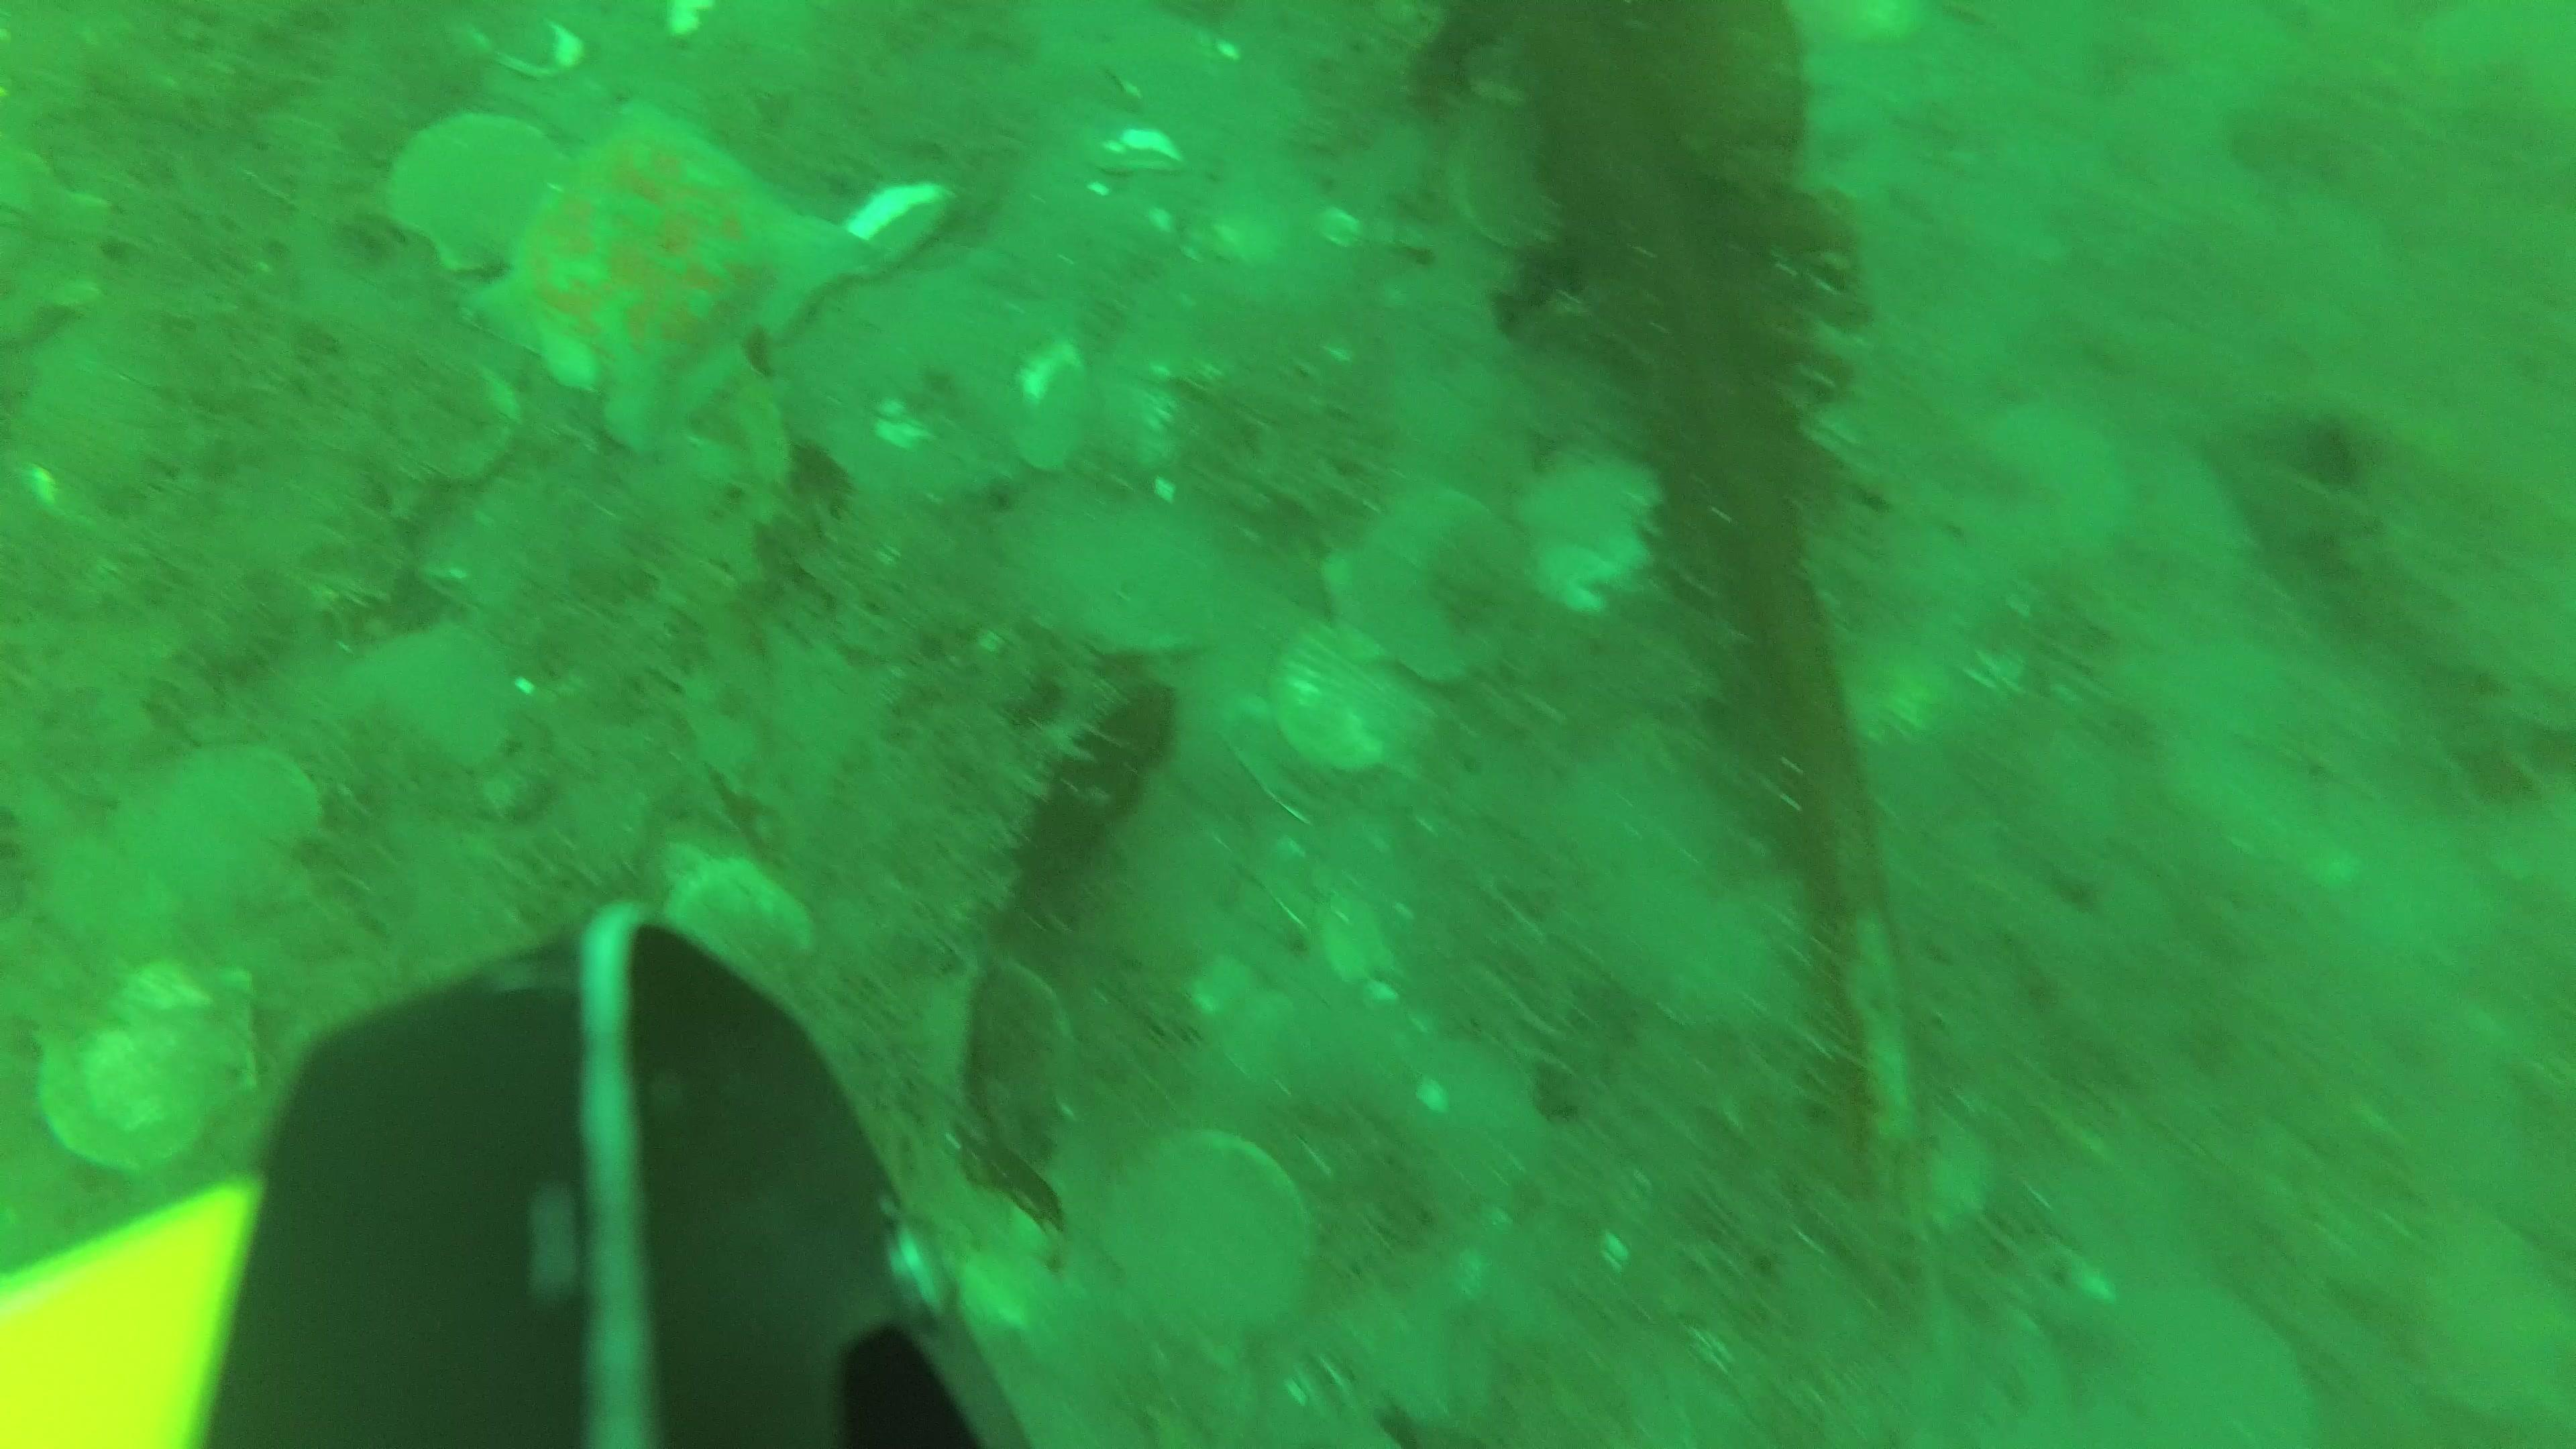scallop: (787, 265, 1083, 494), (42, 975, 255, 1185), (1104, 1143, 1302, 1361), (1010, 492, 1228, 678), (117, 755, 313, 927), (1332, 481, 1513, 667), (382, 113, 575, 272), (329, 625, 510, 791), (1274, 616, 1435, 773), (663, 844, 809, 980)
starfish: (502, 124, 833, 439)
